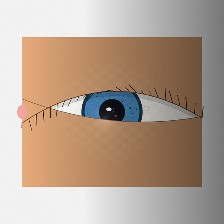pinguecula_lesion: (36, 90, 68, 115)
